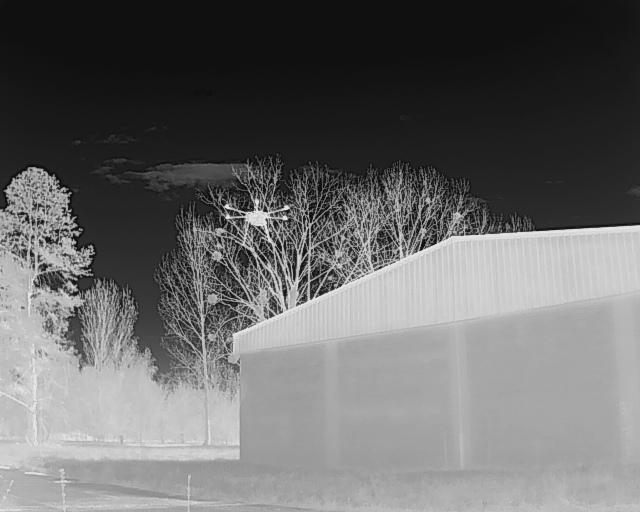drone: (218, 194, 296, 250)
